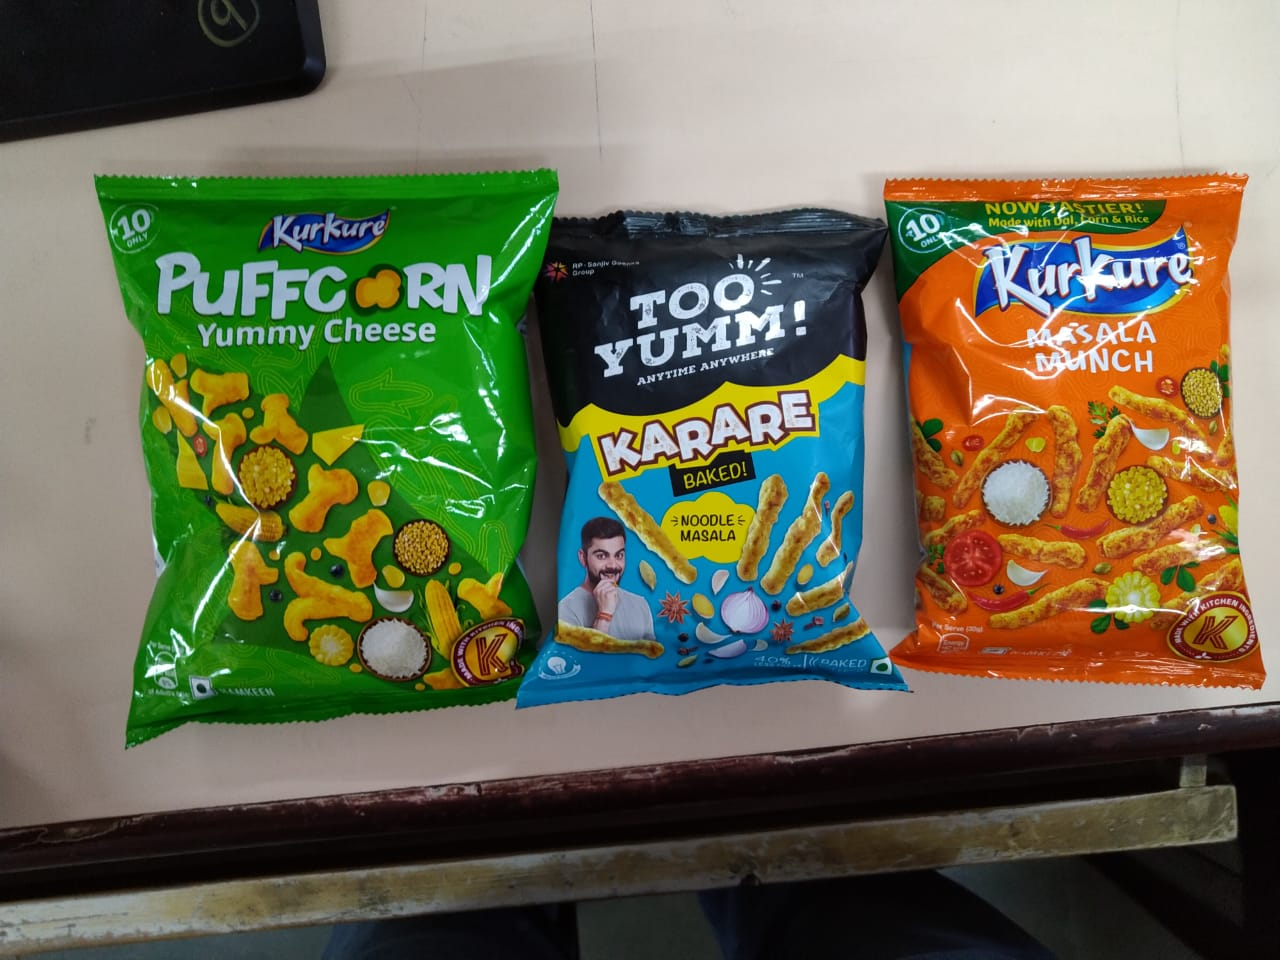kurkure: (957, 219, 1221, 349), (975, 227, 1123, 327), (259, 193, 439, 271), (1075, 223, 1203, 327)
plastic: (119, 171, 1247, 743)
tooyumm: (601, 251, 825, 391), (615, 251, 831, 373), (583, 281, 741, 379)
wrapper: (127, 159, 563, 753), (525, 193, 899, 699), (877, 165, 1239, 661)
